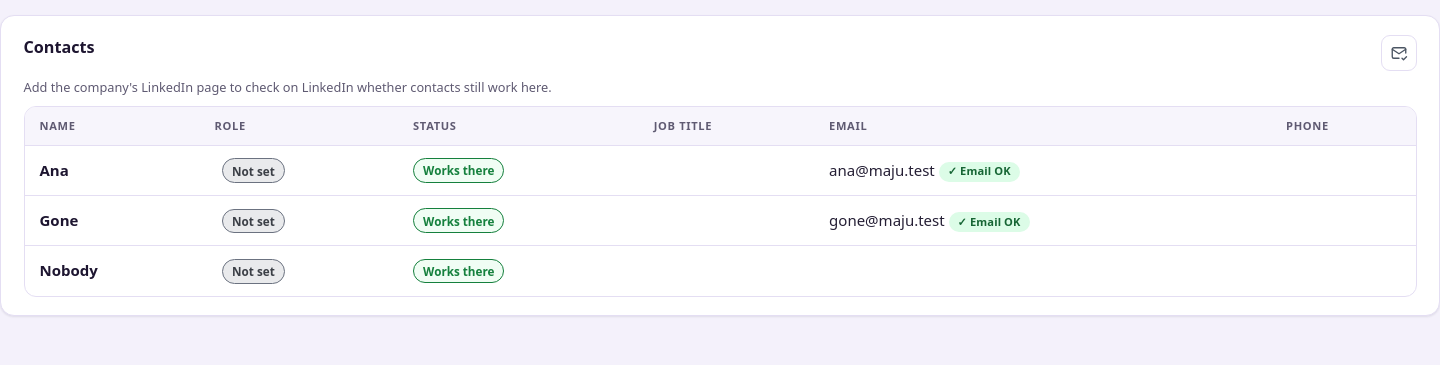
a company's contacts › verify every email at once, and the ones that bounce are marked in red
Click the button named "Verify emails" at (1398, 53), box [1380, 35, 1416, 71]
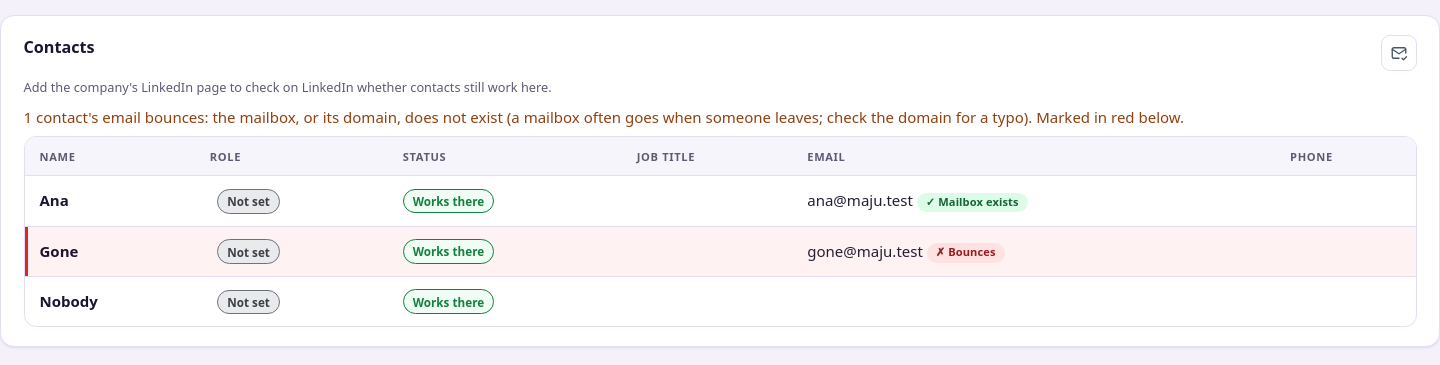
Check: the text "✗ Bounces" is shown, box [927, 243, 1005, 262]
Check: the text "✓ Mailbox exists" is shown, box [917, 193, 1028, 212]
